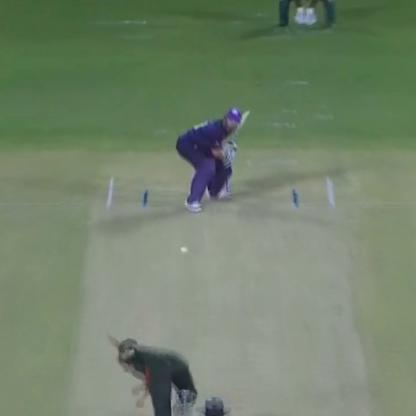pitch: (78, 162, 350, 416), (178, 244, 190, 255)
